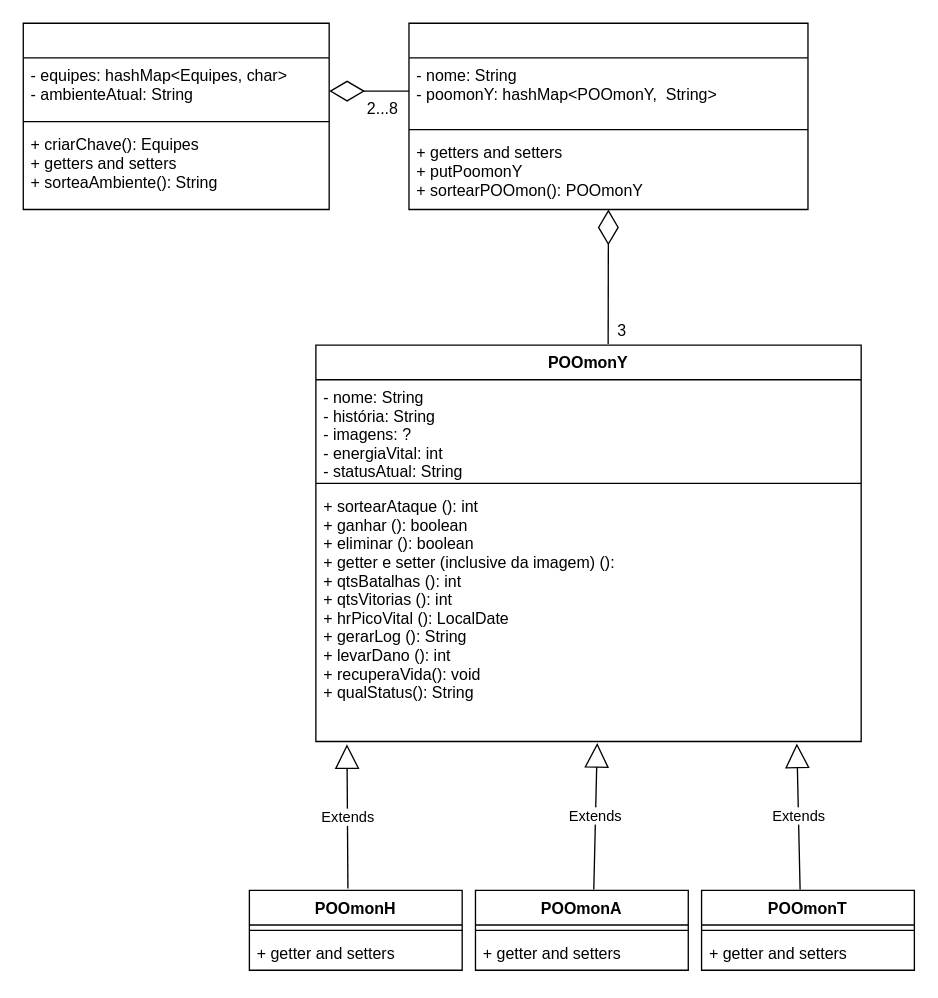
Some shapes in this 938 by 998 pixel diagram are drawn without their labels. Here are the shapes that lost their labels. From the top down, the box of each, then its label:
(22, 22, 329, 209): Tabuleiro
(408, 22, 808, 209): Equipe
